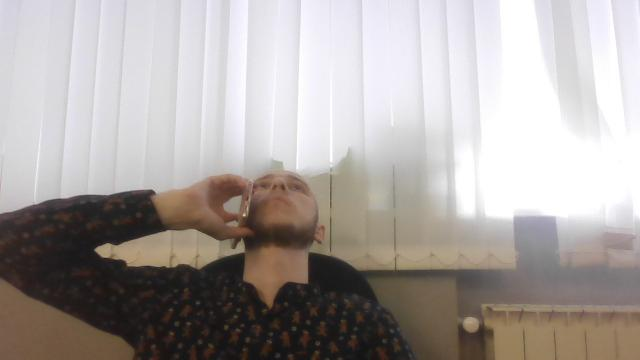Phone: (230, 178, 254, 252)
